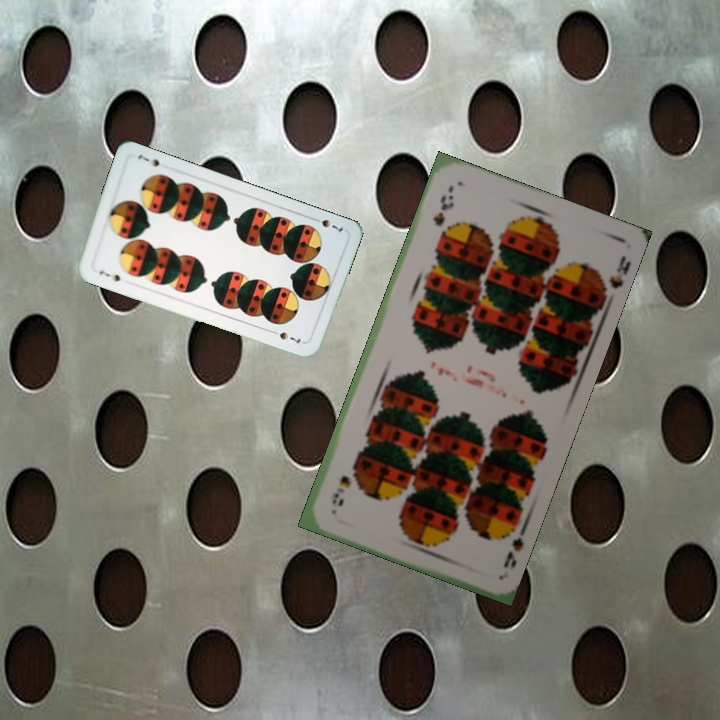S7: (308, 213, 346, 235), (95, 266, 123, 284)
S9: (499, 518, 530, 571), (429, 191, 456, 229)
